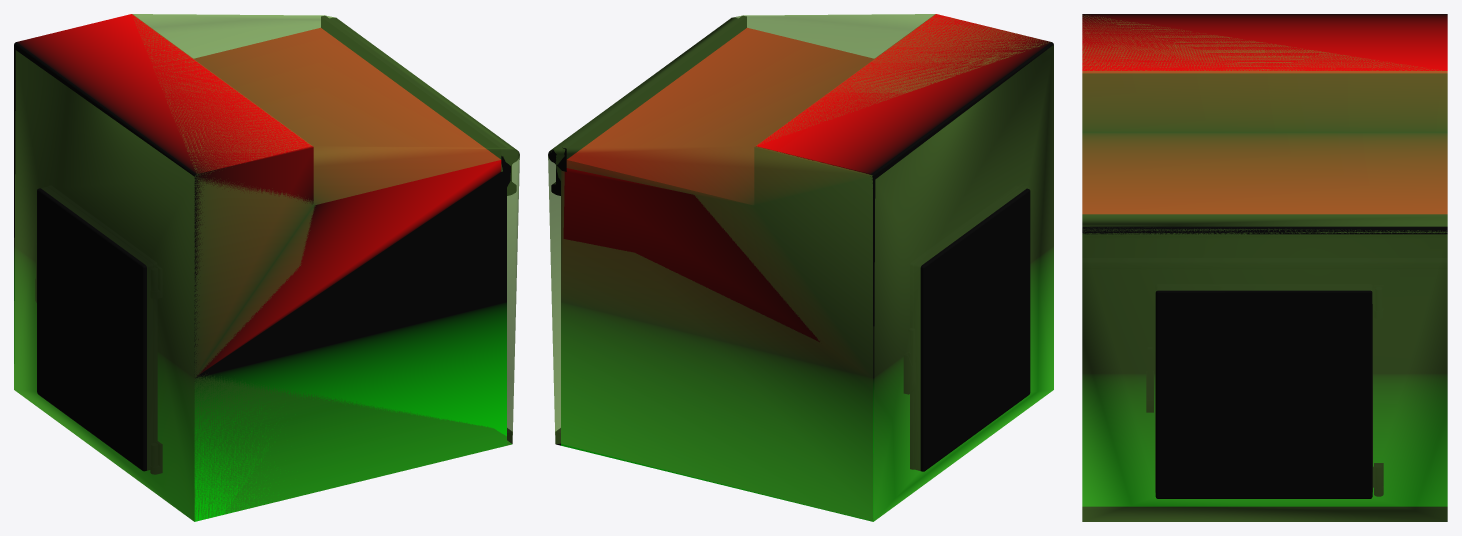
Rendered from M_md_Stall2_1m_03.fbx.
3 views of the same model, side by side, from view 1: azimuth 30°, elevation 25°; view 2: azimuth 150°, elevation 25°; view 3: azimuth 270°, elevation 25° (orthographic).
Parts seen in each view (by area): view 1: M_md_Stall2_1m_03_LOD0, M_md_Stall2_1m_03_col_01; view 2: M_md_Stall2_1m_03_LOD0, M_md_Stall2_1m_03_col_01; view 3: M_md_Stall2_1m_03_LOD0, M_md_Stall2_1m_03_col_01.
Part boxes in pixels (box(x1,y1,x2,y2)): M_md_Stall2_1m_03_LOD0: box(14, 14, 519, 521); M_md_Stall2_1m_03_col_01: box(14, 14, 519, 521); M_md_Stall2_1m_03_LOD0: box(548, 14, 1053, 521); M_md_Stall2_1m_03_col_01: box(548, 14, 1053, 521); M_md_Stall2_1m_03_LOD0: box(1082, 14, 1447, 521); M_md_Stall2_1m_03_col_01: box(1082, 15, 1447, 521).
Size of what is drawn, in the model's own units: 109 by 106 by 100.
